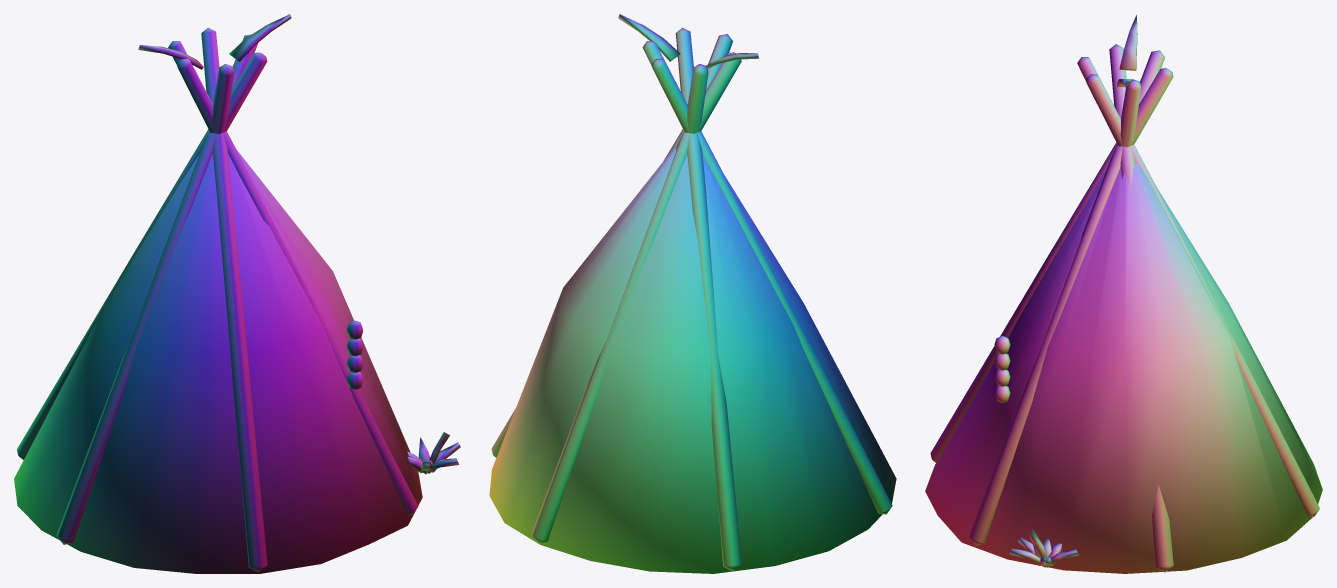
Rendered from SM_Prop_Goblin_Hut_B.fbx.
3 renders of one model, left to right at view 1: azimuth 30°, elevation 25°; view 2: azimuth 150°, elevation 25°; view 3: azimuth 270°, elevation 25°, orthographic. The views are drawn at different scales.
Parts seen in each view (by area): view 1: SM_Prop_Goblin_Hut_B; view 2: SM_Prop_Goblin_Hut_B; view 3: SM_Prop_Goblin_Hut_B.
Boxes of the visible parts, x1,y1,x2,y2 form: SM_Prop_Goblin_Hut_B: (14, 14, 460, 573); SM_Prop_Goblin_Hut_B: (489, 14, 896, 573); SM_Prop_Goblin_Hut_B: (925, 14, 1322, 573).
Size of the model in its own units: 2.16 by 2.47 by 2.01.
